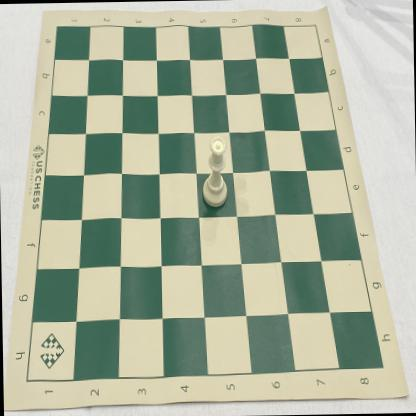queen: (201, 135, 228, 209)
